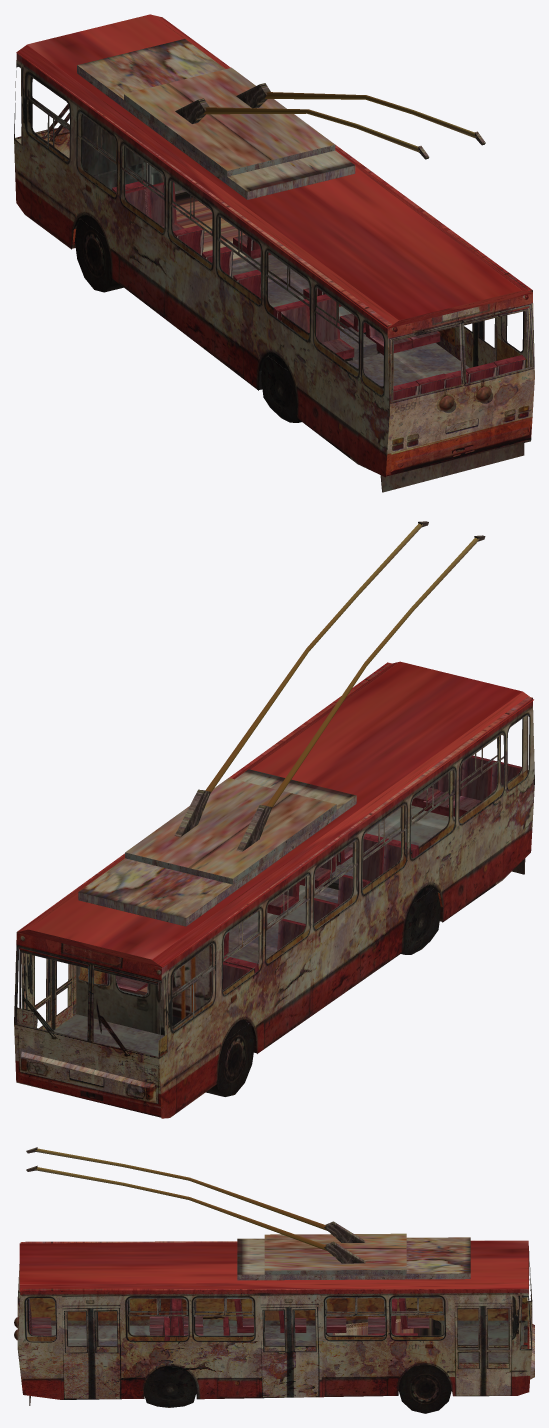
The model's file is trolleybus_dmg.FBX.
3 views of the same model, one above another, from view 1: azimuth 30°, elevation 25°; view 2: azimuth 150°, elevation 25°; view 3: azimuth 270°, elevation 25° (orthographic). The views are drawn at different scales.
Visible parts, largest first — view 1: Regroup01; view 2: Regroup01; view 3: Regroup01.
Boxes of the visible parts, x1,y1,x2,y2 form: Regroup01: (14,14,534,492); Regroup01: (14,521,534,1118); Regroup01: (14,1147,534,1413).
Size of the model in its own units: 2.62 by 5.86 by 11.84.
Materials: 2 (2 with a texture image).
